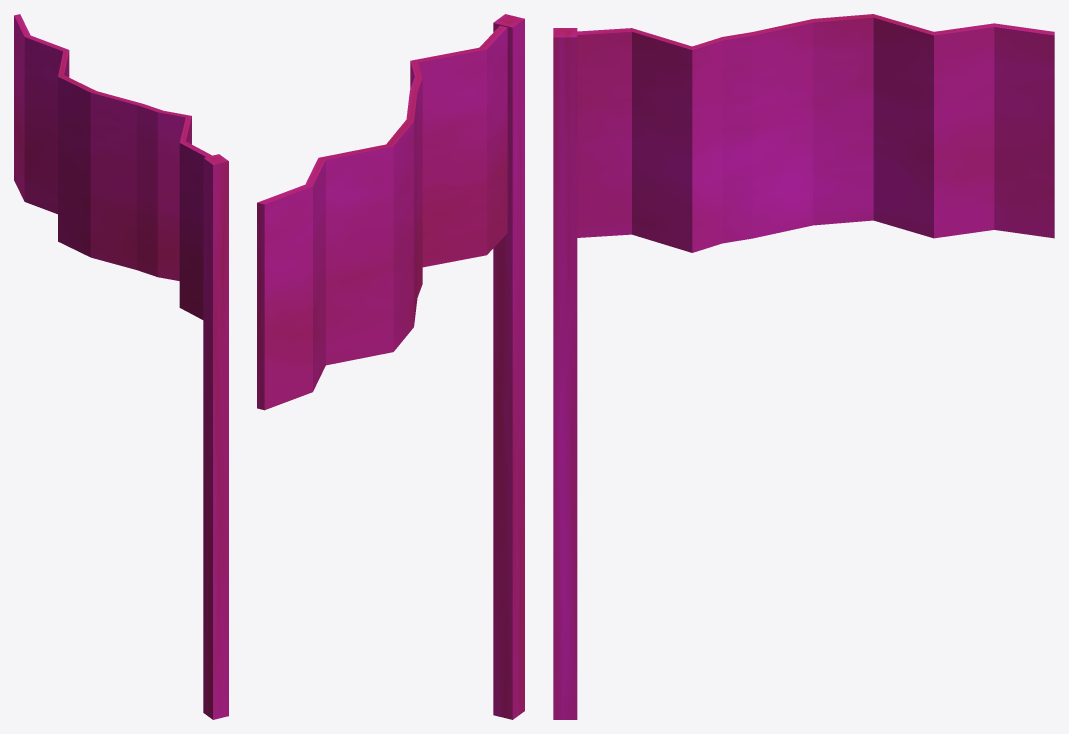
File: Goal.obj
3 views of the same model, side by side, from view 1: azimuth 30°, elevation 25°; view 2: azimuth 150°, elevation 25°; view 3: azimuth 270°, elevation 25° (orthographic). The views are drawn at different scales.
Parts seen in each view (by area): view 1: フラッグ; view 2: フラッグ; view 3: フラッグ.
Part boxes in pixels (x1=…): フラッグ: x1=14, y1=14, x2=228, y2=719; フラッグ: x1=257, y1=14, x2=524, y2=719; フラッグ: x1=553, y1=14, x2=1054, y2=719.
Bounding box in the file's own units: 1.33 × 11.68 × 7.78.
